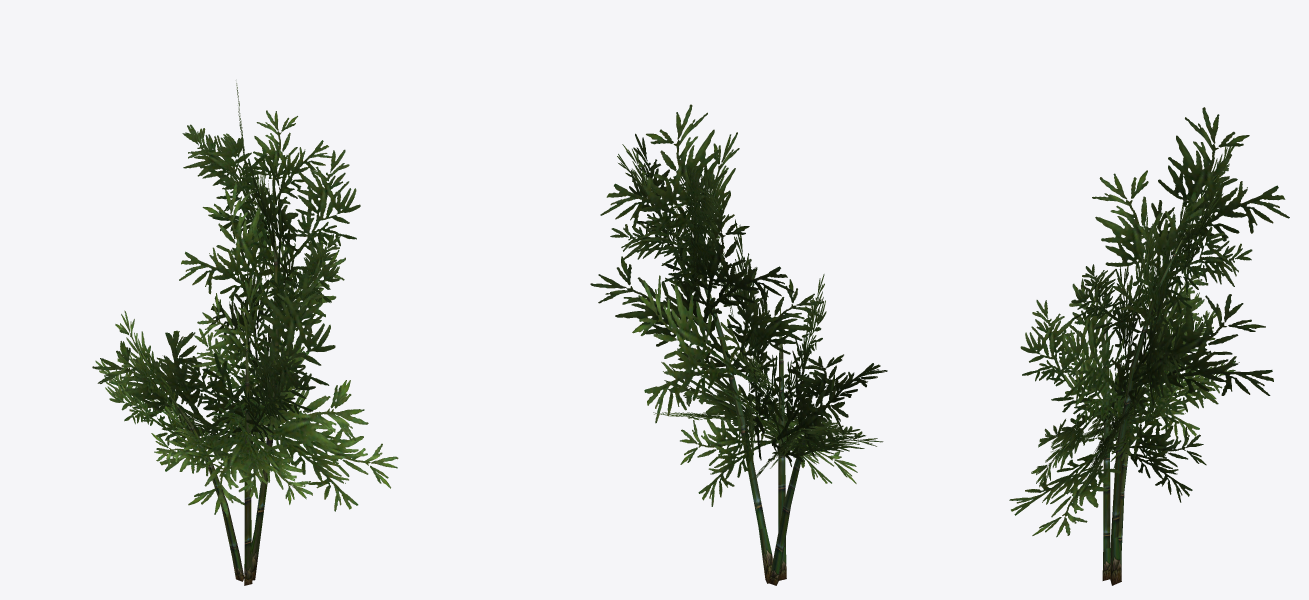
The model's file is qys_zhuzi01_LOD2.FBX.
The picture shows the model from 3 angles, left to right: view 1: azimuth 30°, elevation 25°; view 2: azimuth 150°, elevation 25°; view 3: azimuth 270°, elevation 25°; orthographic projection. The views are drawn at different scales.
Visible parts, largest first — view 1: qys_zhuzi01_02_LOD2, qys_zhuzi01_01_LOD2; view 2: qys_zhuzi01_02_LOD2, qys_zhuzi01_01_LOD2; view 3: qys_zhuzi01_02_LOD2, qys_zhuzi01_01_LOD2.
Boxes of the visible parts, left/top/right/bottom form: qys_zhuzi01_02_LOD2: left=92, top=83, right=398, bottom=516; qys_zhuzi01_01_LOD2: left=169, top=180, right=278, bottom=585; qys_zhuzi01_02_LOD2: left=590, top=104, right=887, bottom=506; qys_zhuzi01_01_LOD2: left=674, top=204, right=813, bottom=585; qys_zhuzi01_02_LOD2: left=1009, top=107, right=1289, bottom=537; qys_zhuzi01_01_LOD2: left=1102, top=226, right=1188, bottom=585.
Size of the model in its own units: 1207 by 1658 by 825.
